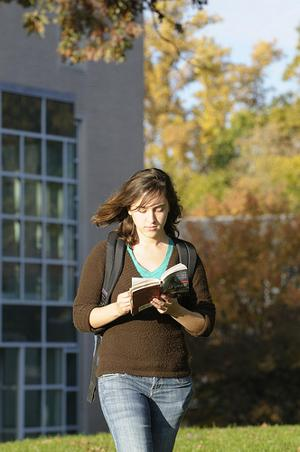person: (74, 167, 216, 452)
